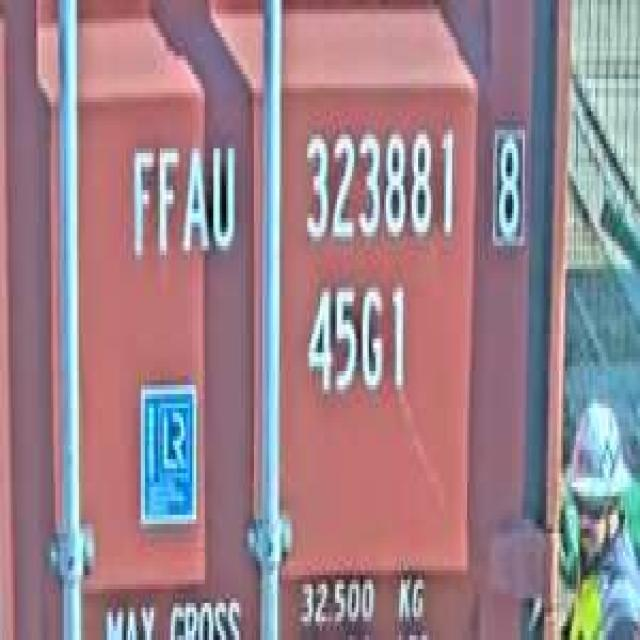dv: (486, 112, 529, 250)
owner: (122, 130, 241, 264)
serial: (296, 111, 461, 255)
size: (299, 269, 414, 408)
